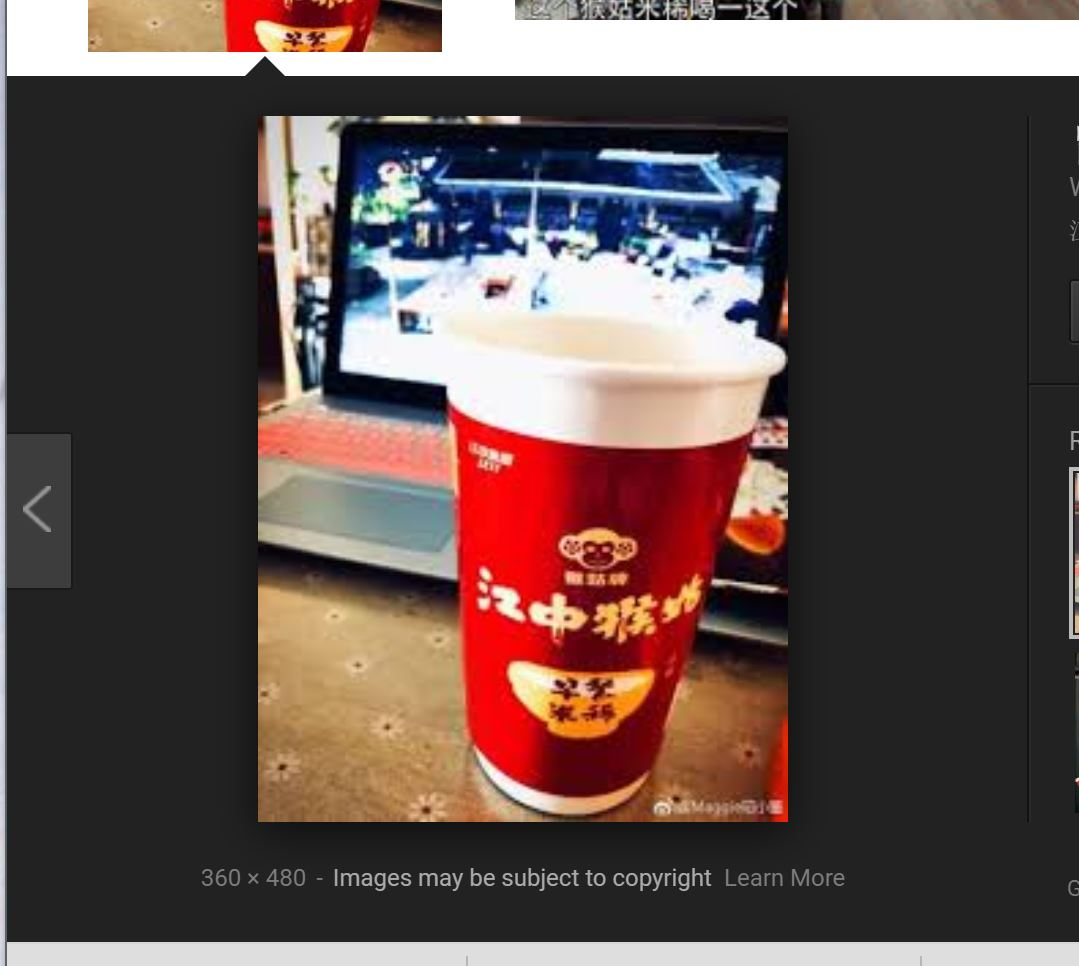cup: (436, 311, 748, 810)
